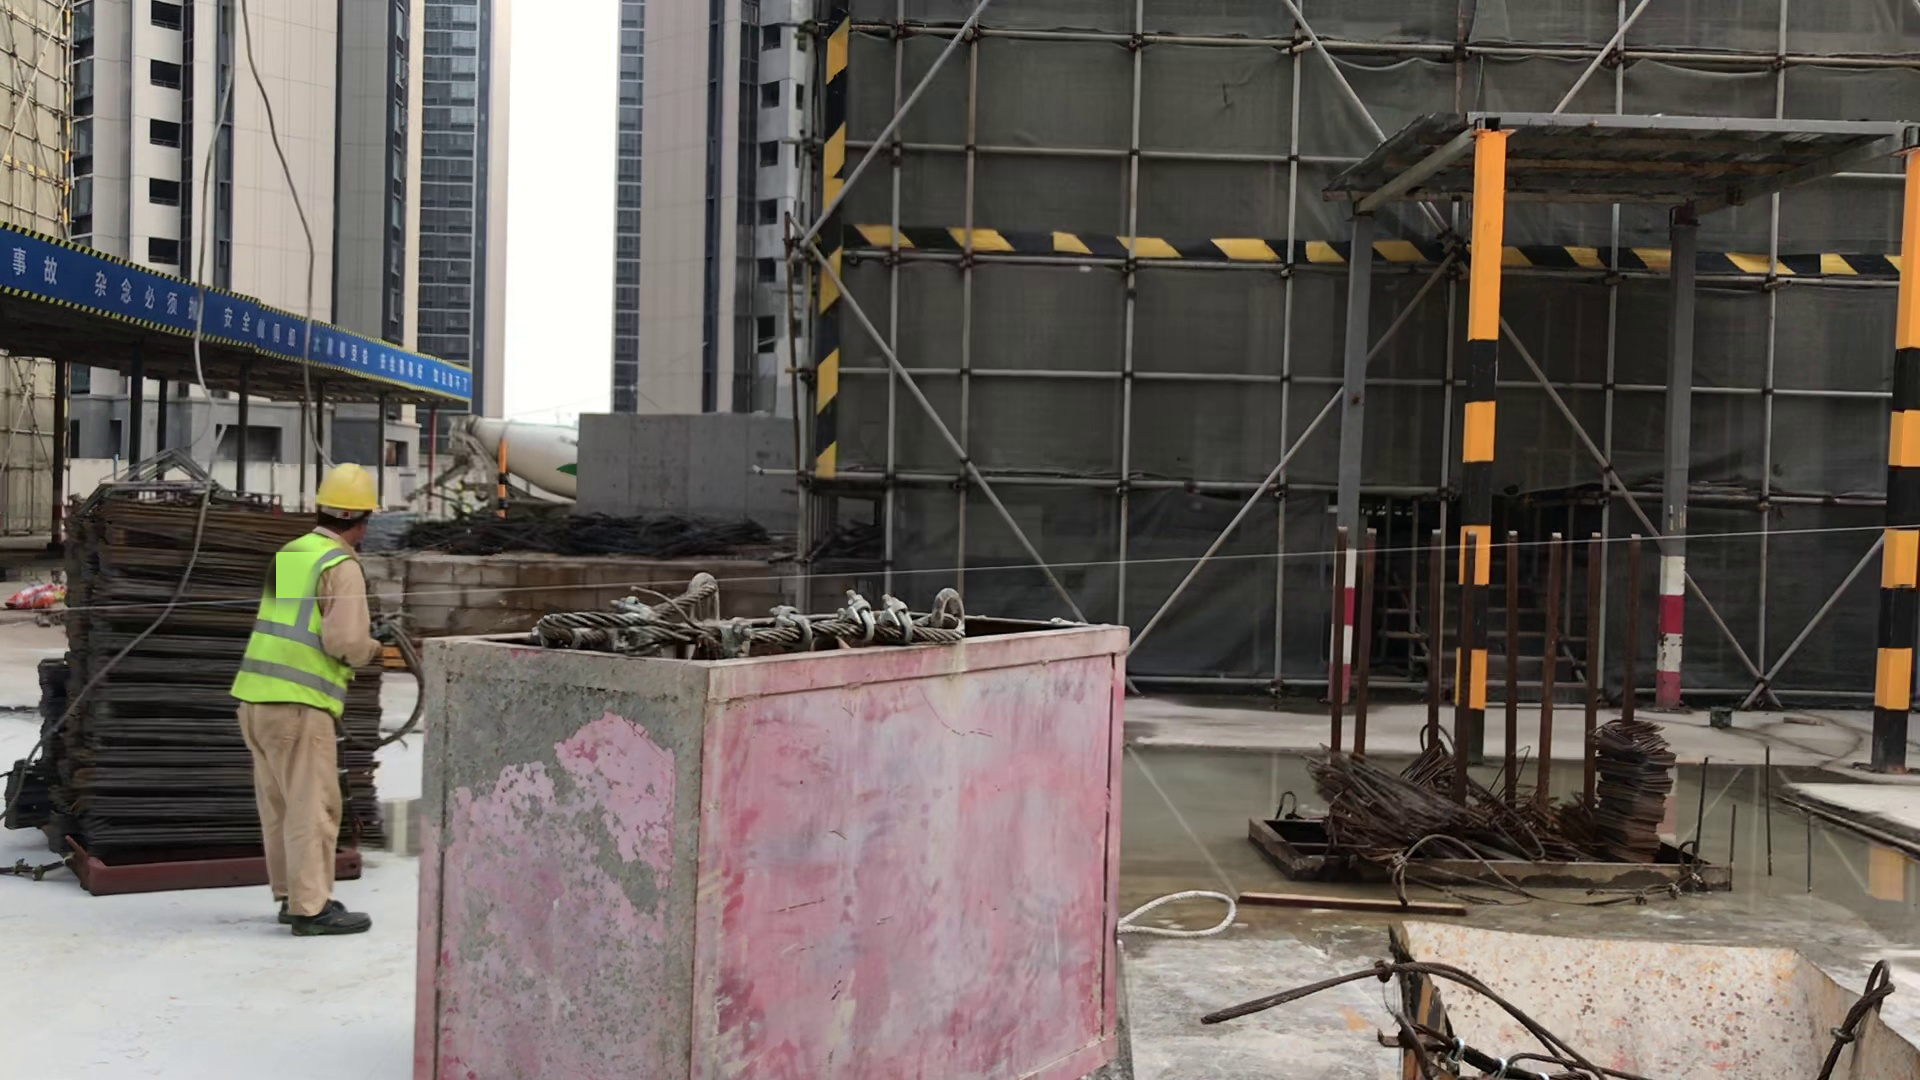helmet: (315, 459, 379, 518)
hopper: (1369, 906, 1919, 1080)
person: (235, 455, 382, 940)
vest: (233, 525, 356, 716)
